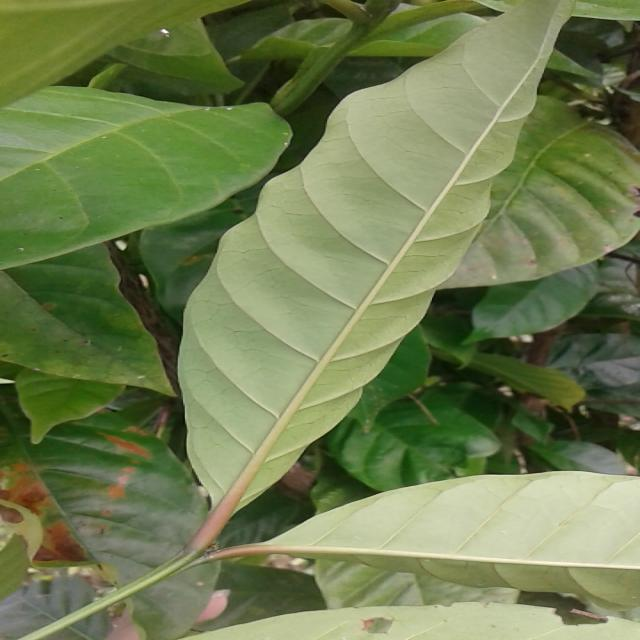Sanas: (177, 0, 578, 550)
